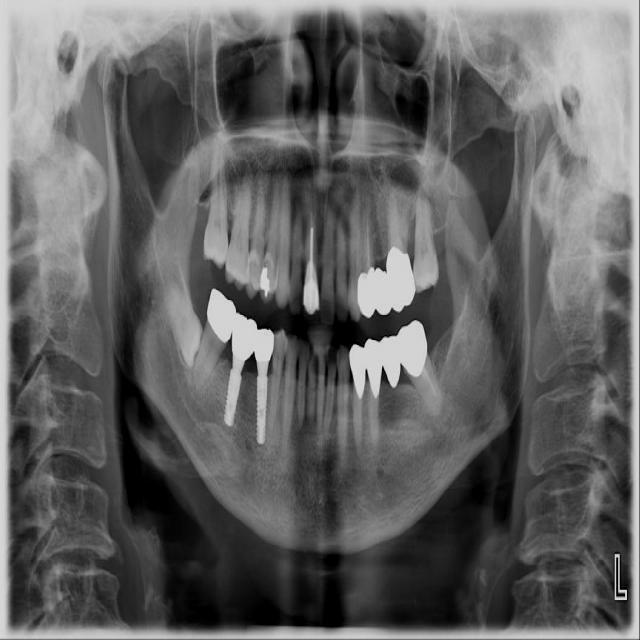dolgu: (258, 261, 272, 297)
implant: (226, 316, 257, 439), (250, 326, 276, 452)
kanal-tedavisi: (302, 211, 320, 275)
kaplama: (383, 246, 417, 307), (400, 319, 430, 370), (210, 291, 232, 339), (348, 344, 367, 394), (364, 340, 381, 395), (356, 269, 376, 315), (302, 268, 322, 312)
kopru: (378, 328, 404, 396), (374, 257, 390, 317)
